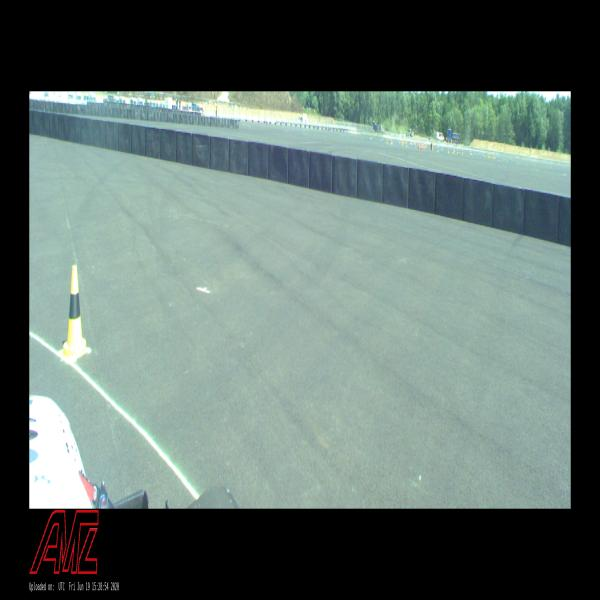yellow_cone: (62, 265, 88, 359)
